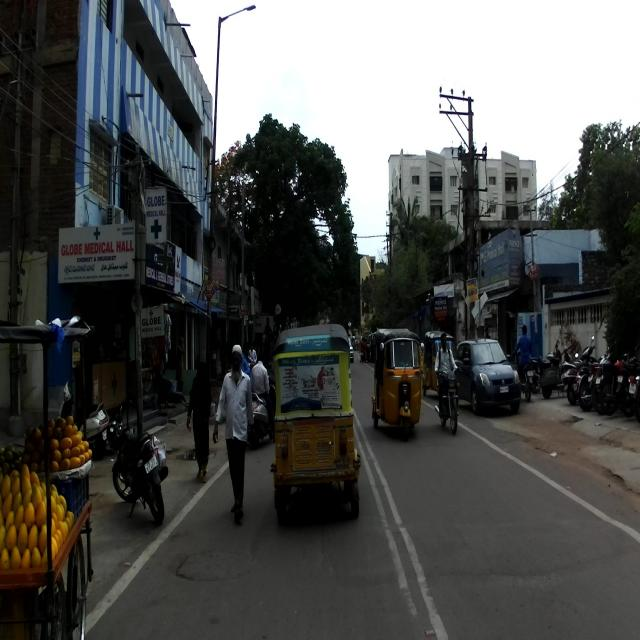autorickshaw: (269, 322, 361, 528), (372, 328, 424, 440)
car: (454, 337, 520, 414)
motorcycle: (106, 388, 168, 528), (574, 339, 620, 412), (588, 342, 628, 417), (434, 360, 462, 433)
scooter: (59, 380, 110, 460), (244, 366, 278, 449), (558, 335, 598, 404), (537, 338, 570, 396)
